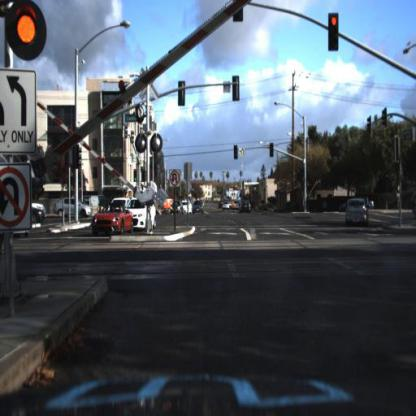car: (92, 198, 134, 234), (344, 188, 376, 235), (50, 196, 92, 222), (130, 199, 160, 230), (348, 193, 378, 211), (23, 206, 46, 225), (240, 193, 256, 220), (29, 208, 44, 229), (169, 201, 184, 217), (190, 198, 204, 215), (30, 201, 48, 214), (180, 198, 190, 219), (169, 198, 180, 213), (222, 193, 229, 216), (215, 191, 223, 211), (215, 194, 224, 210), (231, 196, 239, 214)
trafficLight: (327, 12, 338, 51), (232, 137, 242, 163), (268, 140, 275, 158)
trafficLight-Green: (298, 163, 306, 184)
trafficLight-Red: (0, 0, 68, 65), (323, 8, 344, 57)
